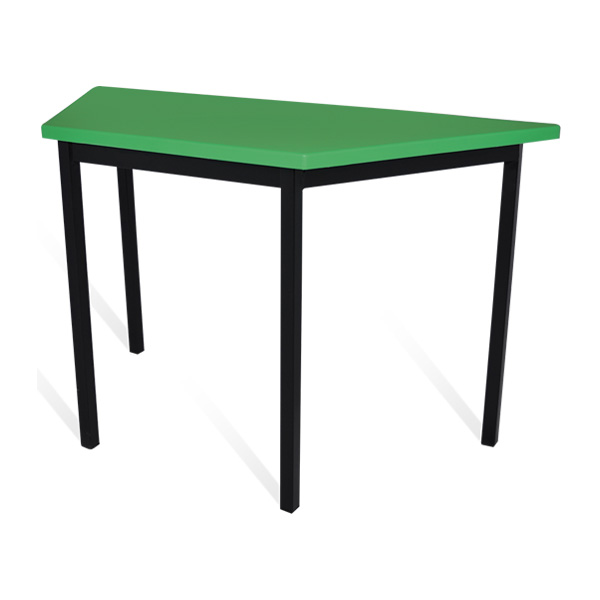m01: (40, 84, 560, 513)
